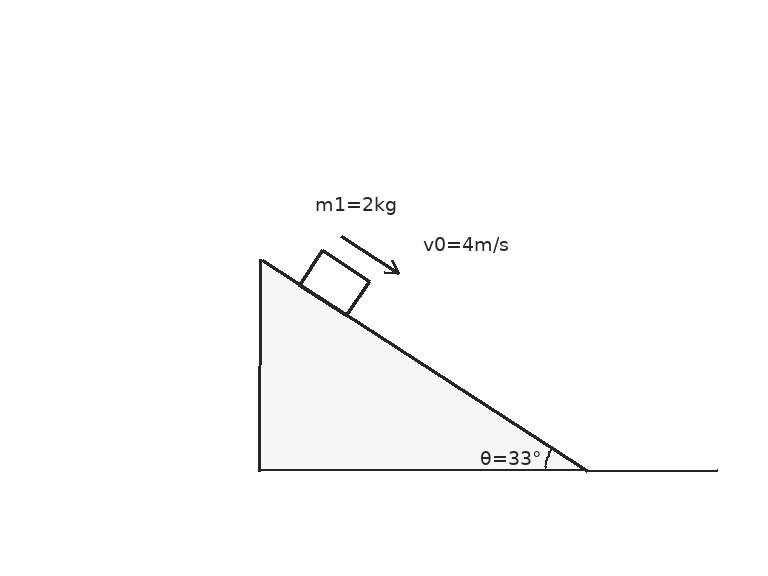block: (298, 248, 371, 317)
ramp: (258, 257, 587, 472)
